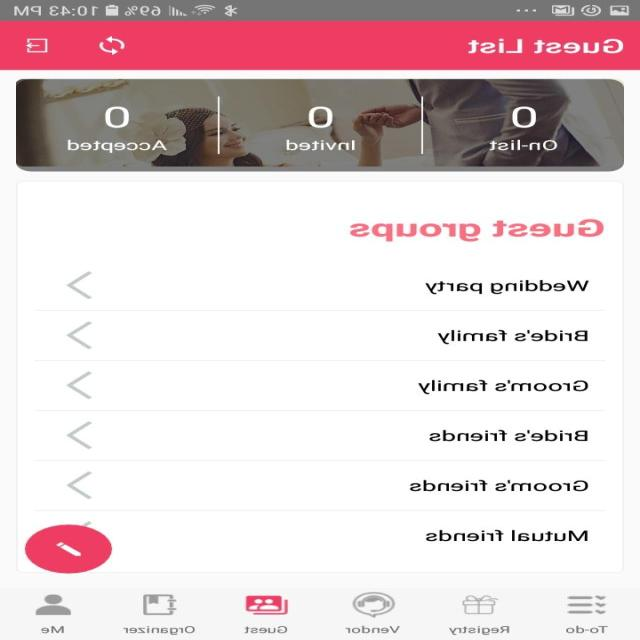Icon: (25, 524, 113, 573), (66, 270, 94, 300), (246, 595, 289, 614), (66, 320, 94, 349), (66, 370, 94, 399), (66, 420, 94, 449), (35, 594, 73, 615), (66, 471, 94, 499), (462, 594, 500, 614), (567, 595, 607, 614), (143, 594, 178, 615), (100, 36, 126, 56), (27, 38, 49, 53)
Image: (17, 78, 626, 172), (352, 592, 396, 618)
Text: (350, 218, 604, 242), (418, 379, 588, 394), (468, 38, 624, 54), (424, 280, 590, 294), (410, 479, 588, 492), (438, 330, 588, 344), (429, 429, 588, 442), (426, 530, 588, 540), (68, 139, 168, 153), (488, 139, 558, 151), (286, 139, 356, 151), (124, 625, 196, 635), (448, 625, 511, 635), (308, 106, 334, 128), (105, 106, 131, 128), (512, 106, 537, 128), (346, 625, 401, 633), (566, 625, 609, 633), (245, 625, 288, 633), (42, 625, 66, 633)
